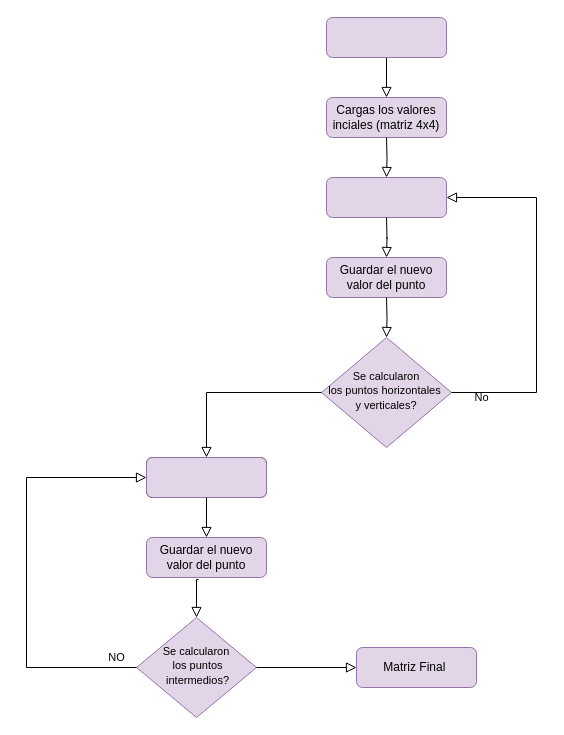
The diagram is 564 pixels wide and 735 high, and some of its shapes have lost their labels. Each missing label, with the centre of its shape:
"Calcular los puntos horizontales y verticlaes" belongs at point (386, 197).
"Calcular los puntos intermedios" belongs at point (206, 477).
"INICIO" belongs at point (386, 37).
